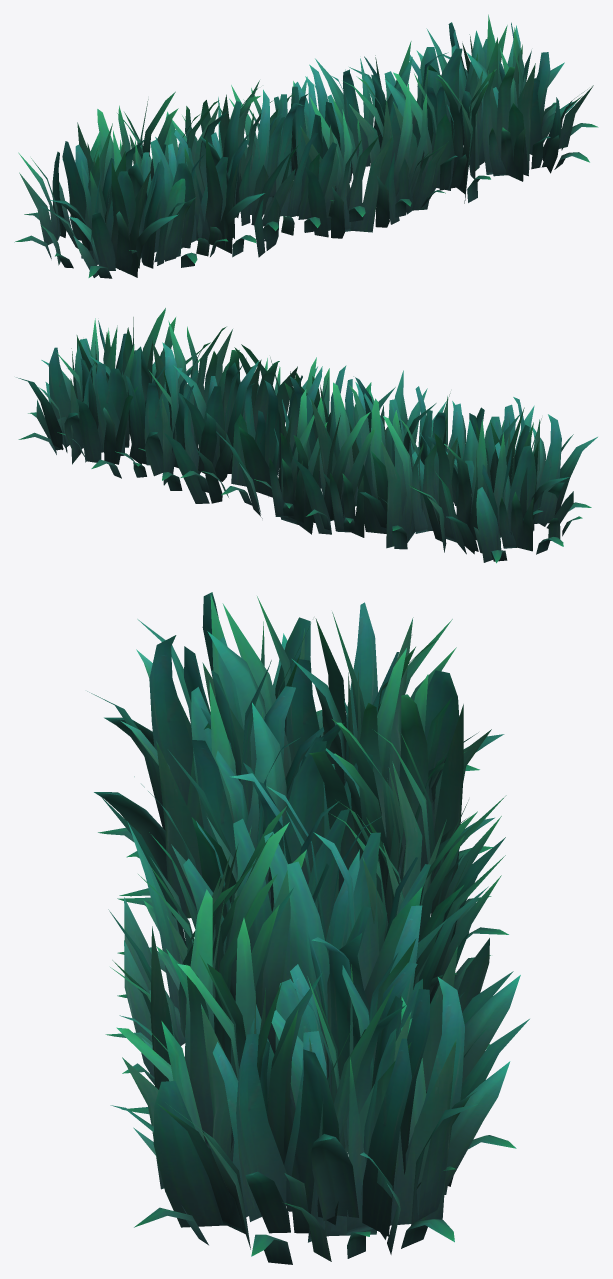
Rendered from pref_sm_4v4beachtech_WSJ_techgrass_alpha_01_lv2.fbx.
3 views of the same model, one above another, from view 1: azimuth 30°, elevation 25°; view 2: azimuth 150°, elevation 25°; view 3: azimuth 270°, elevation 25° (orthographic). The views are drawn at different scales.
Visible parts, largest first — view 1: pref_sm_4v4beachtech_WSJ_techgrass_alpha_01_lv2; view 2: pref_sm_4v4beachtech_WSJ_techgrass_alpha_01_lv2; view 3: pref_sm_4v4beachtech_WSJ_techgrass_alpha_01_lv2.
Part boxes in pixels (x1,y1,x2,y2): pref_sm_4v4beachtech_WSJ_techgrass_alpha_01_lv2: (14,14,598,278); pref_sm_4v4beachtech_WSJ_techgrass_alpha_01_lv2: (16,308,597,563); pref_sm_4v4beachtech_WSJ_techgrass_alpha_01_lv2: (87,592,529,1264).
Size of the model in its own units: 8.33 by 2.09 by 2.97.
